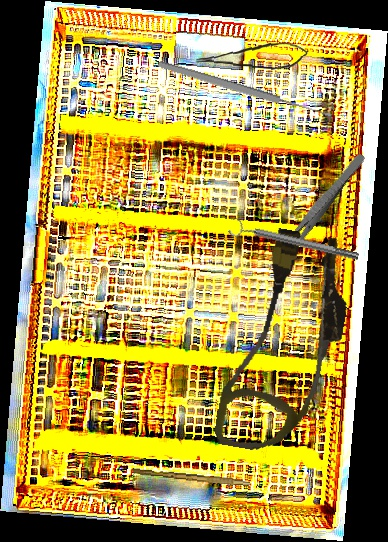Cannula: (212, 223, 359, 462)
Dressing Forceps: (274, 150, 367, 264)
Fixation Ring: (227, 215, 361, 268)
Micro Scissor: (195, 37, 309, 72)
Scalpel Handle: (132, 467, 251, 487)
Surgical Spoon: (156, 58, 334, 122)
